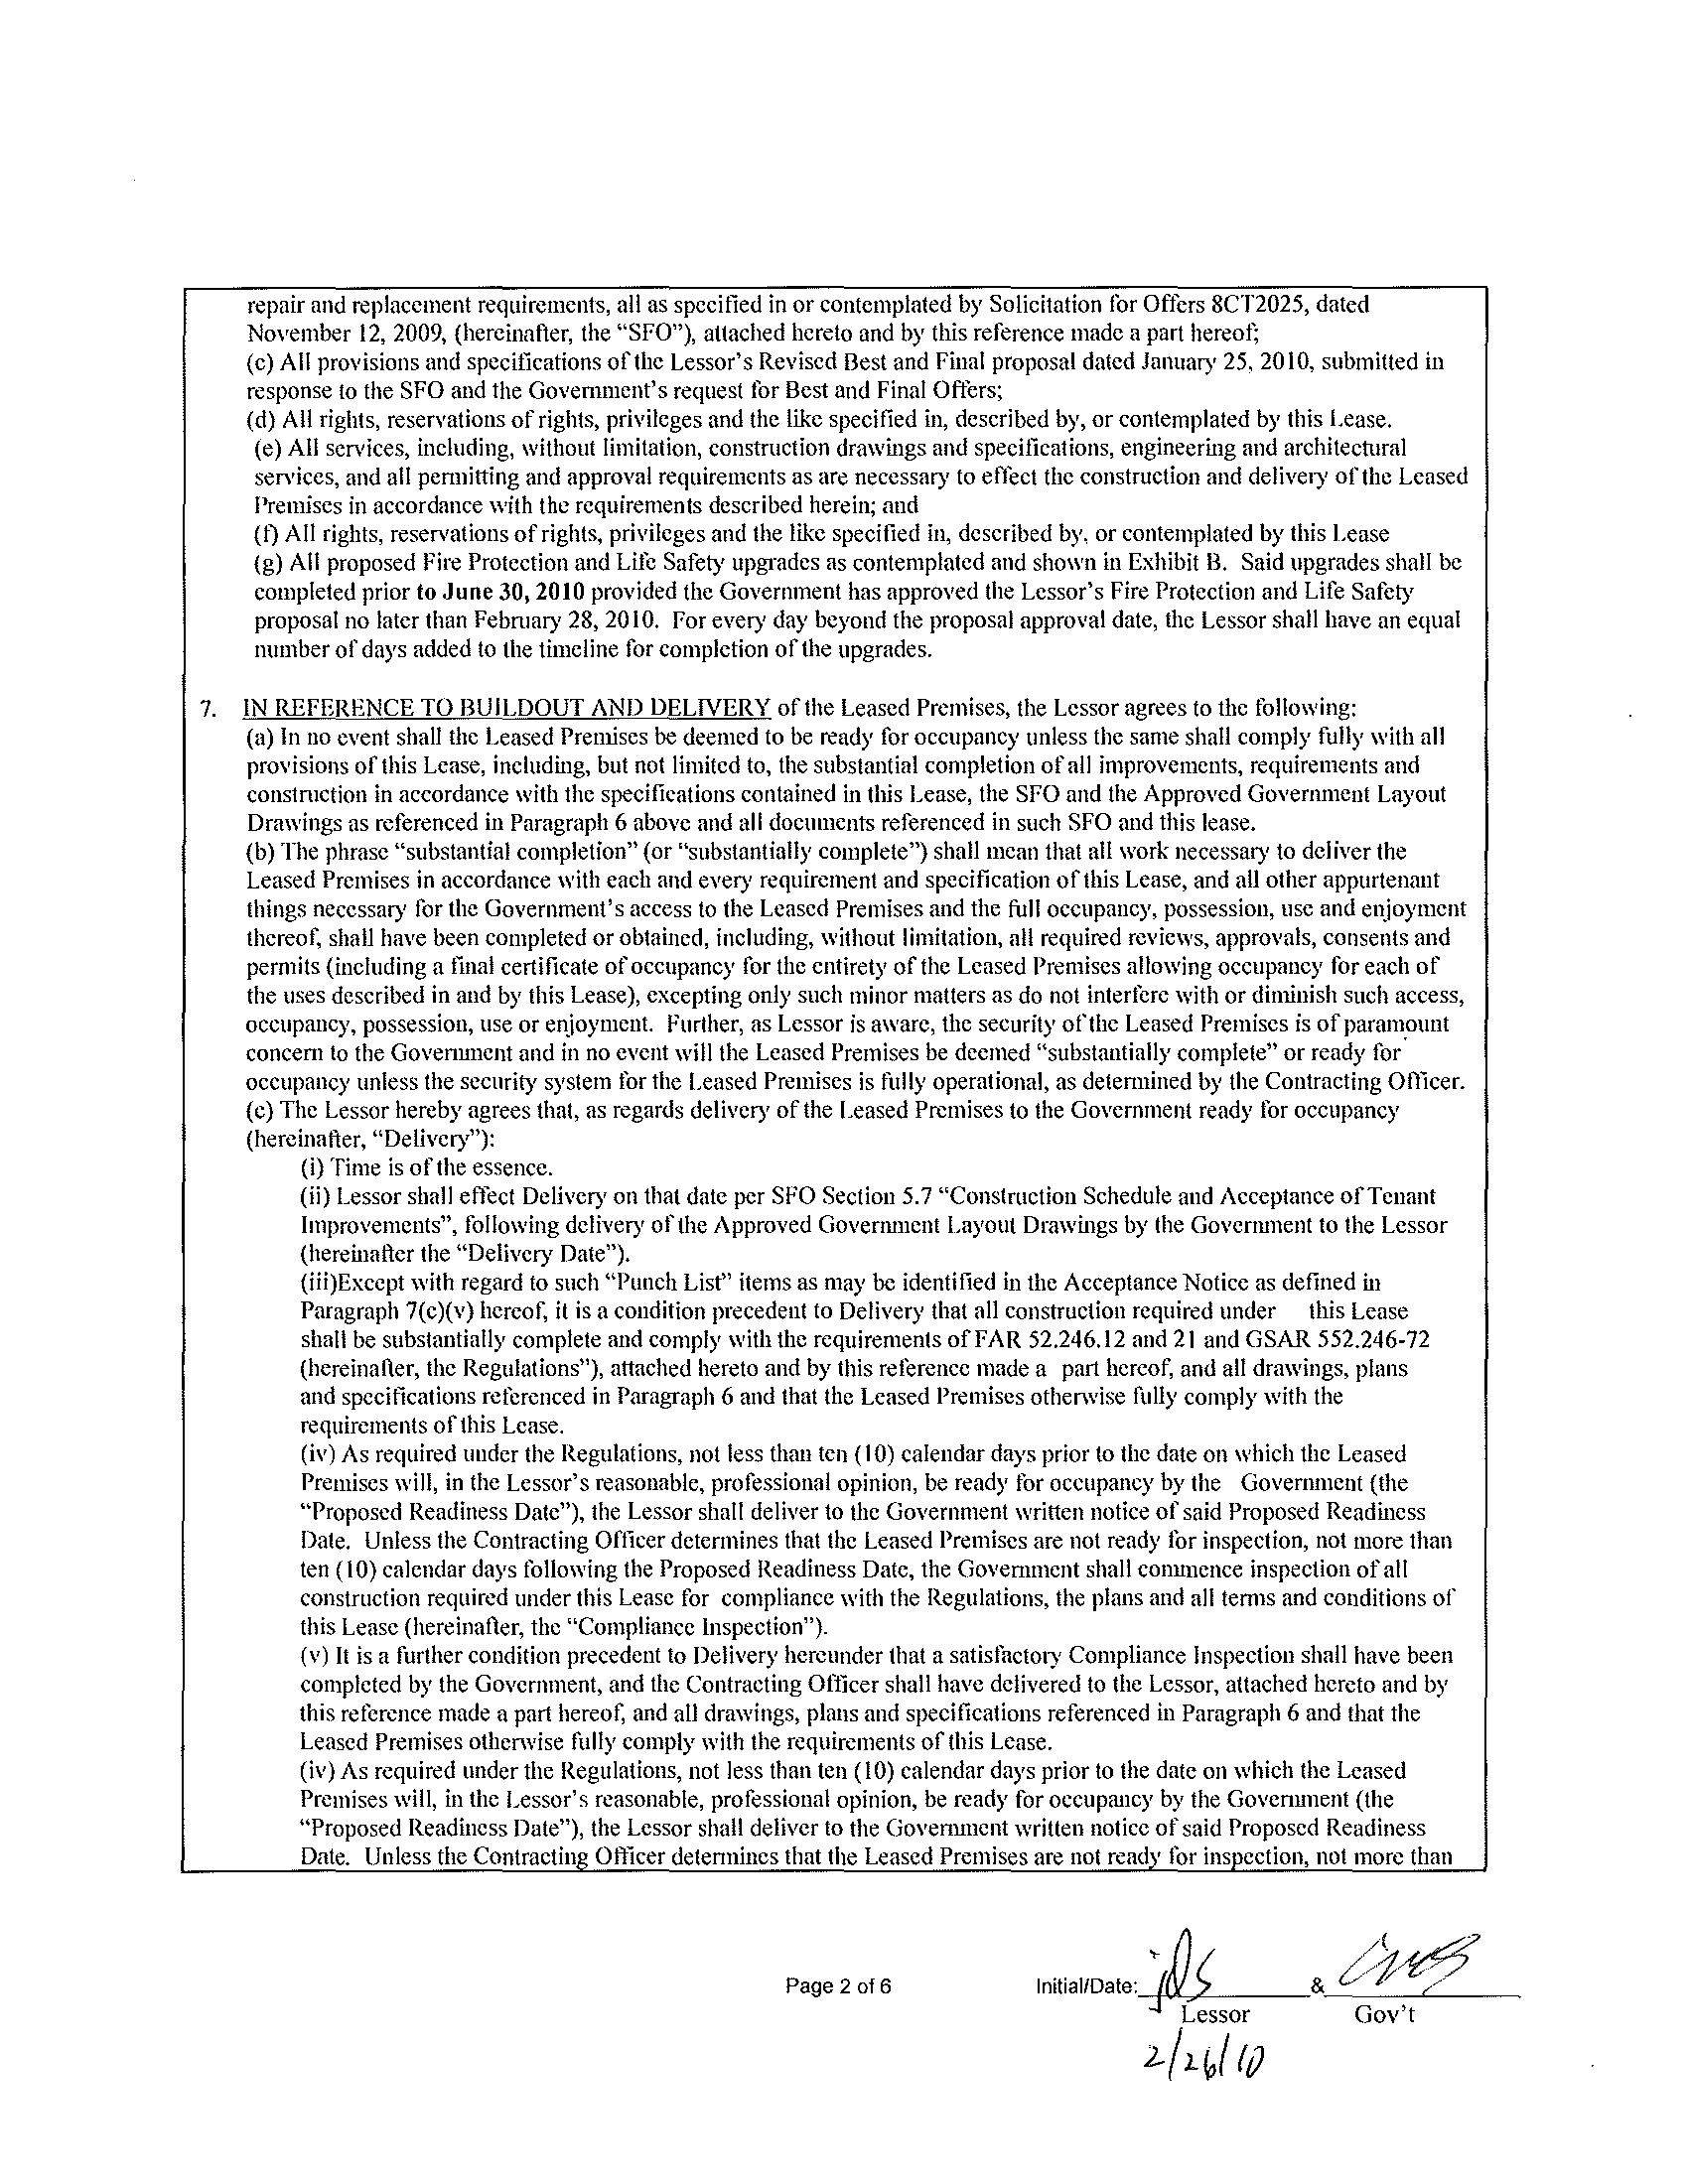handwritten: (1333, 1899, 1504, 2008), (1122, 2030, 1305, 2115), (1137, 1913, 1238, 2014)
